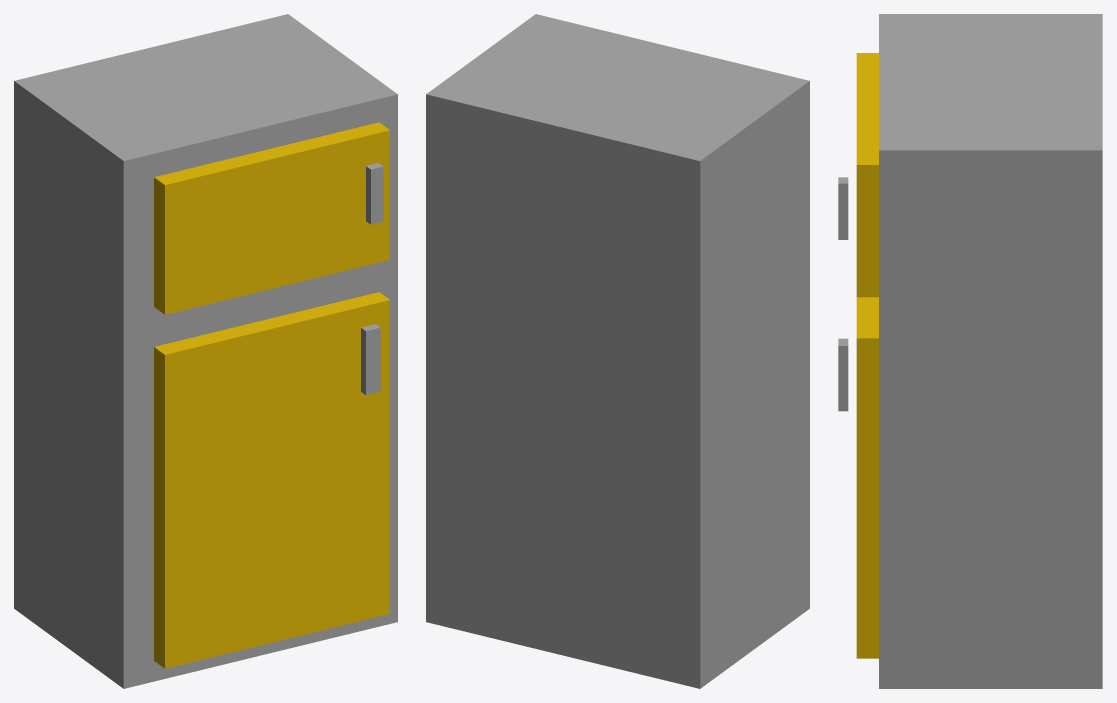
Rendered from heladera.fbx.
The picture shows the model from 3 angles, left to right: view 1: azimuth 30°, elevation 25°; view 2: azimuth 150°, elevation 25°; view 3: azimuth 270°, elevation 25°; orthographic projection. The views are drawn at different scales.
Visible parts, largest first — view 1: pCube6; view 2: pCube6; view 3: pCube6.
Part boxes in pixels (<box>): pCube6: <box>14,14,397,688</box>; pCube6: <box>426,14,809,688</box>; pCube6: <box>838,14,1102,688</box>.
Bounding box in the file's own units: 2.89 × 5.32 × 2.37.
